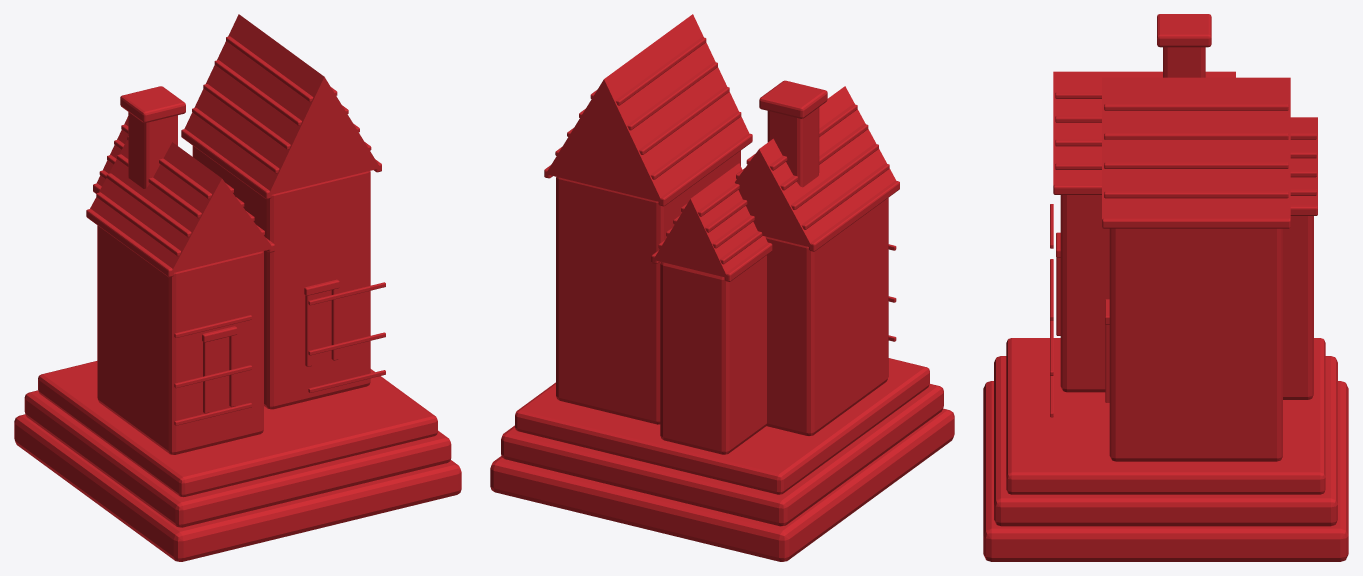
File: village.fbx
The picture shows the model from 3 angles, left to right: view 1: azimuth 30°, elevation 25°; view 2: azimuth 150°, elevation 25°; view 3: azimuth 270°, elevation 25°; orthographic projection. The views are drawn at different scales.
Parts seen in each view (by area): view 1: Village_West_House, Village_East_House, Village_TopTerrace, Village_East_Roof, Village_BottomTerrace, Village_MiddleTerrace, Village_West_Roof, Village_Chimney, Village_ChimneyCap, Village_West_Eave_-1, Village_East_Eave_-1, Village_East_Tile_-1_2 (+6 smaller); view 2: Village_East_House, Village_West_House, Village_Rear_House, Village_East_Roof, Village_BottomTerrace, Village_TopTerrace, Village_MiddleTerrace, Village_West_Roof, Village_Rear_Roof, Village_Chimney, Village_ChimneyCap, Village_West_Eave_-1 (+9 smaller); view 3: Village_East_House, Village_TopTerrace, Village_East_Roof, Village_BottomTerrace, Village_MiddleTerrace, Village_West_House, Village_Rear_House, Village_West_Roof, Village_East_Eave_1, Village_ChimneyCap, Village_Rear_Roof, Village_East_Tile_1_4 (+5 smaller).
Part boxes in pixels (<box>): Village_West_House: <box>97,225,263,454</box>; Village_East_House: <box>192,146,370,409</box>; Village_TopTerrace: <box>38,361,437,497</box>; Village_East_Roof: <box>184,14,379,194</box>; Village_BottomTerrace: <box>14,414,461,561</box>; Village_MiddleTerrace: <box>24,390,451,527</box>; Village_West_Roof: <box>90,140,273,272</box>; Village_Chimney: <box>128,112,177,188</box>; Village_ChimneyCap: <box>120,86,185,122</box>; Village_West_Eave_-1: <box>86,209,173,277</box>; Village_East_Eave_-1: <box>181,129,271,199</box>; Village_East_Tile_-1_2: <box>214,60,301,125</box>; Village_East_House: <box>556,150,740,424</box>; Village_West_House: <box>765,198,888,436</box>; Village_Rear_House: <box>660,255,766,454</box>; Village_East_Roof: <box>546,14,748,202</box>; Village_BottomTerrace: <box>490,408,954,561</box>; Village_TopTerrace: <box>515,358,929,494</box>; Village_MiddleTerrace: <box>501,384,943,526</box>; Village_West_Roof: <box>735,86,895,246</box>; Village_Rear_Roof: <box>655,163,767,277</box>; Village_Chimney: <box>767,107,819,187</box>; Village_ChimneyCap: <box>759,80,827,118</box>; Village_West_Eave_-1: <box>809,180,899,251</box>; Village_East_House: <box>1109,228,1282,461</box>; Village_TopTerrace: <box>1006,338,1325,494</box>; Village_East_Roof: <box>1102,77,1290,219</box>; Village_BottomTerrace: <box>983,381,1348,561</box>; Village_MiddleTerrace: <box>994,356,1337,526</box>; Village_West_House: <box>1060,195,1109,392</box>; Village_Rear_House: <box>1283,216,1313,399</box>; Village_West_Roof: <box>1053,71,1235,185</box>; Village_East_Eave_1: <box>1102,218,1290,228</box>; Village_ChimneyCap: <box>1157,14,1211,47</box>; Village_Rear_Roof: <box>1290,117,1317,206</box>; Village_East_Tile_1_4: <box>1104,191,1288,198</box>.
Size of the model in its own units: 0.012 by 0.016 by 0.012.
